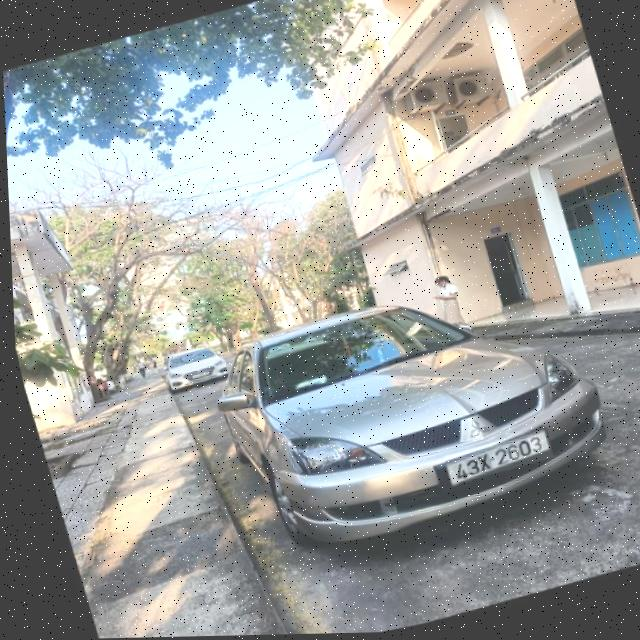car: (197, 264, 629, 569), (156, 337, 232, 397)
plate: (438, 424, 560, 488)
